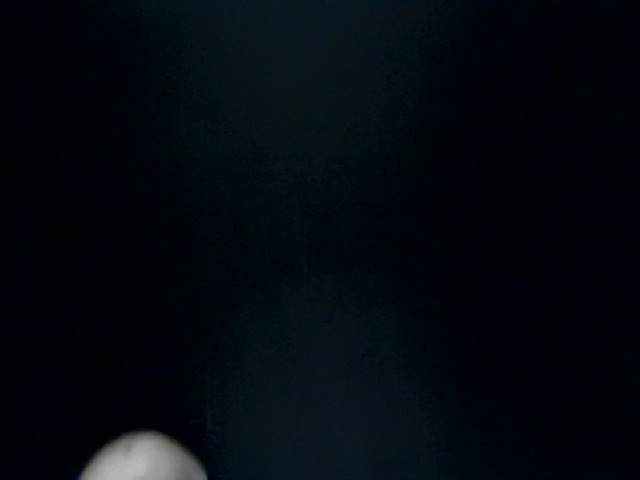QTLJ: (424, 1, 634, 191)
